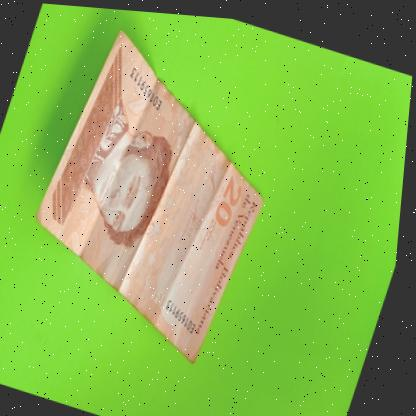twenty-front-vef: (8, 15, 306, 371)
